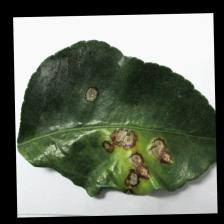canker: (74, 77, 175, 202)
